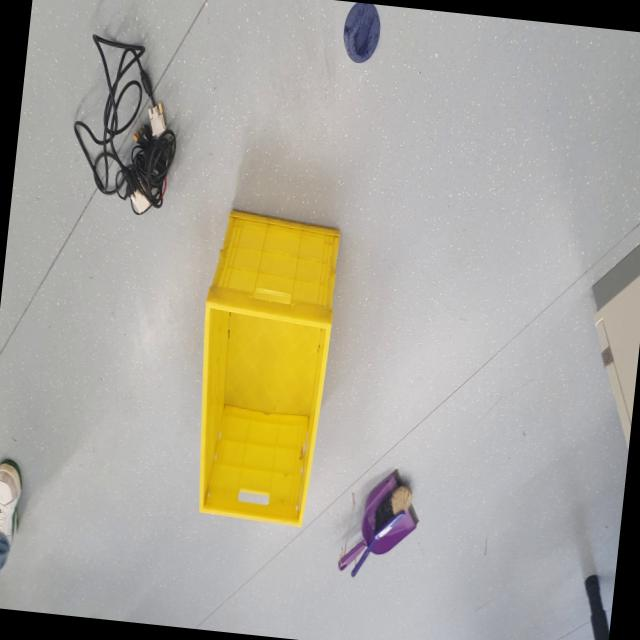box: (174, 184, 356, 548)
